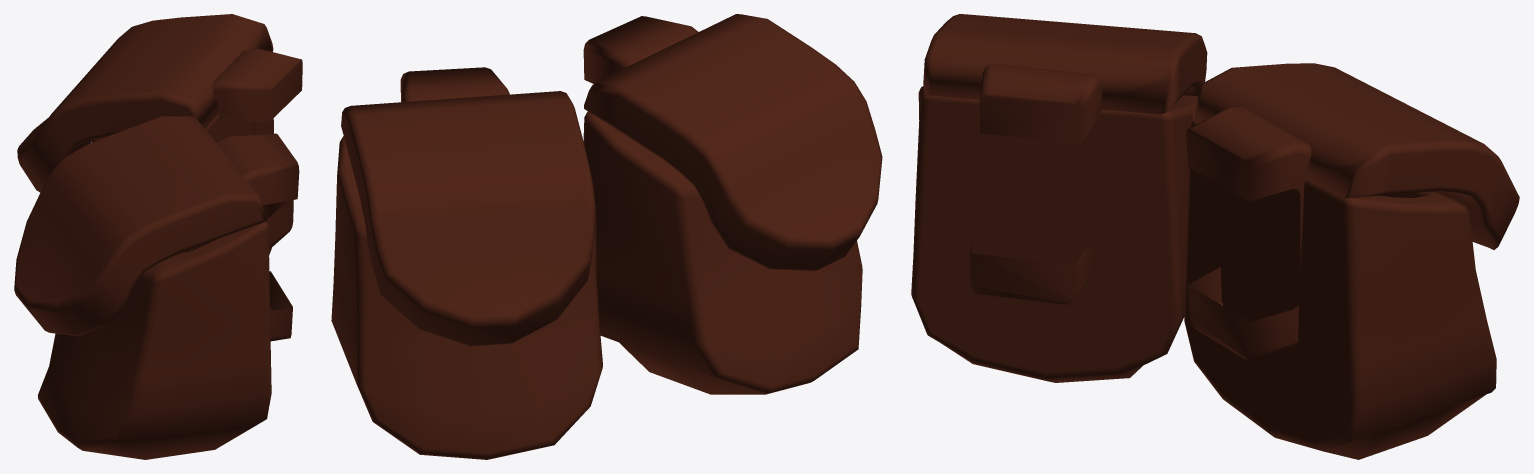
The model's file is BeltBag01.fbx.
The picture shows the model from 3 angles, left to right: view 1: azimuth 30°, elevation 25°; view 2: azimuth 150°, elevation 25°; view 3: azimuth 270°, elevation 25°; orthographic projection. The views are drawn at different scales.
Visible parts, largest first — view 1: BeltBag01; view 2: BeltBag01; view 3: BeltBag01.
Boxes of the visible parts, box(x1,y1,x2,y2) form: BeltBag01: box(14, 14, 302, 459); BeltBag01: box(331, 14, 882, 459); BeltBag01: box(911, 14, 1519, 459).
Bounding box in the file's own units: 16.89 × 12.38 × 20.05.
